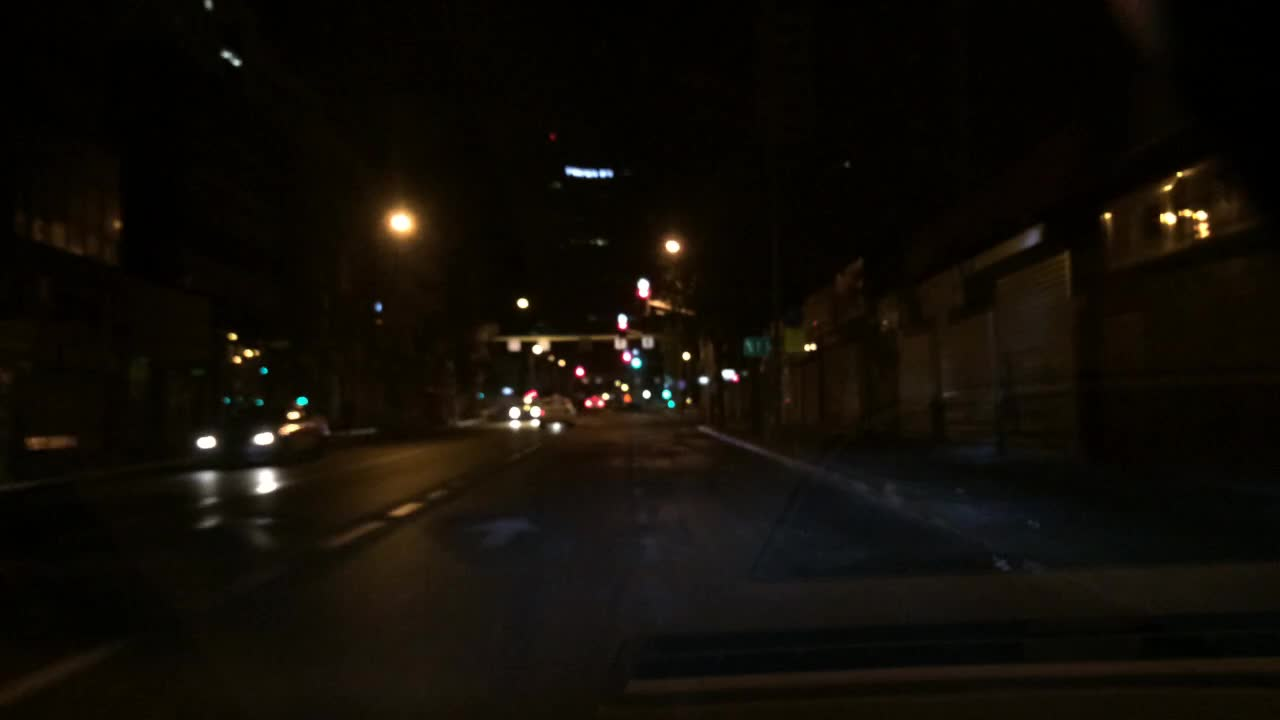car: (192, 404, 329, 464), (536, 394, 576, 426), (508, 399, 536, 420), (583, 397, 606, 410)
traffic light: (636, 282, 648, 298), (629, 357, 641, 369), (616, 315, 626, 328), (574, 367, 585, 378), (661, 390, 671, 400), (624, 352, 630, 363)
traffic sign: (745, 337, 770, 355), (611, 336, 627, 350), (641, 336, 654, 348), (536, 338, 551, 348), (507, 338, 519, 350)
